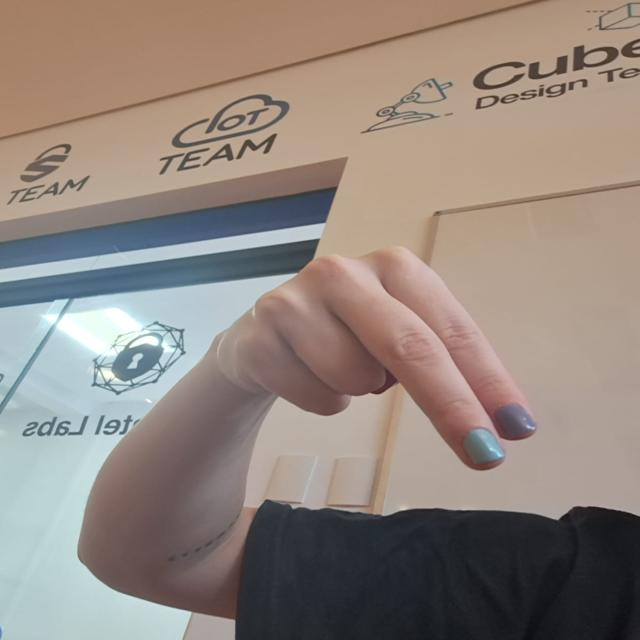N: (211, 228, 549, 494)
